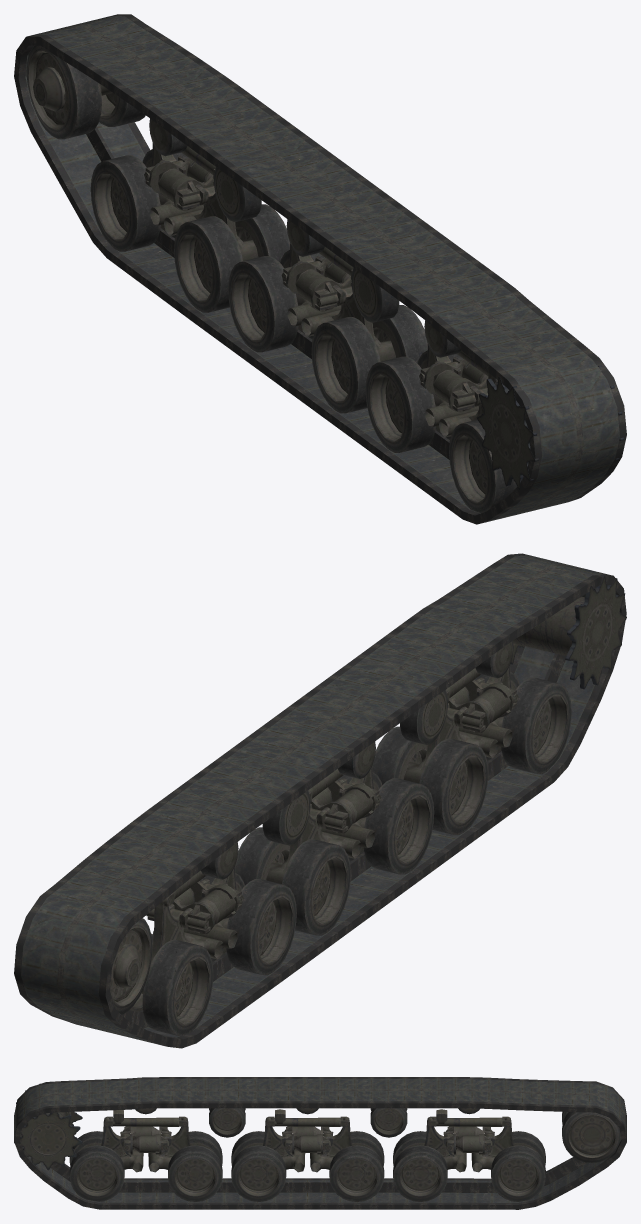
The model's file is Fury_TrackLeft.fbx.
3 renders of one model, top to bottom at view 1: azimuth 30°, elevation 25°; view 2: azimuth 150°, elevation 25°; view 3: azimuth 270°, elevation 25°, orthographic. The views are drawn at different scales.
Visible parts, largest first — view 1: american\A104_M4A3E8A\normal\l\Chassis.pri~6~4, american\A104_M4A3E8A\normal\l\Chassis.pri~6~1; view 2: american\A104_M4A3E8A\normal\l\Chassis.pri~6~4, american\A104_M4A3E8A\normal\l\Chassis.pri~6~1; view 3: american\A104_M4A3E8A\normal\l\Chassis.pri~6~1, american\A104_M4A3E8A\normal\l\Chassis.pri~6~4.
Boxes of the visible parts, x1,y1,x2,y2 form: american\A104_M4A3E8A\normal\l\Chassis.pri~6~4: (14, 14, 626, 524); american\A104_M4A3E8A\normal\l\Chassis.pri~6~1: (26, 45, 623, 513); american\A104_M4A3E8A\normal\l\Chassis.pri~6~4: (14, 553, 626, 1048); american\A104_M4A3E8A\normal\l\Chassis.pri~6~1: (110, 554, 626, 1036); american\A104_M4A3E8A\normal\l\Chassis.pri~6~1: (14, 1083, 621, 1201); american\A104_M4A3E8A\normal\l\Chassis.pri~6~4: (14, 1077, 626, 1209).
Bounding box in the file's own units: 0.599 × 1.09 × 5.69.
